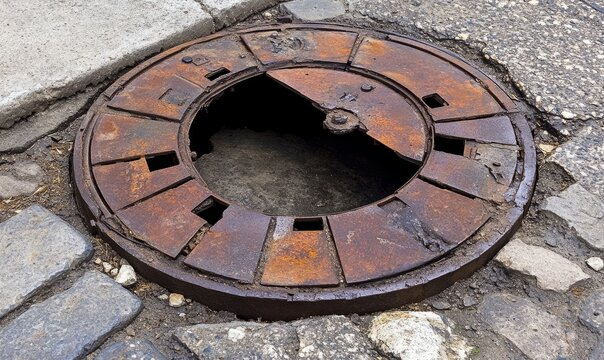Open_manhole: (54, 18, 542, 305)
